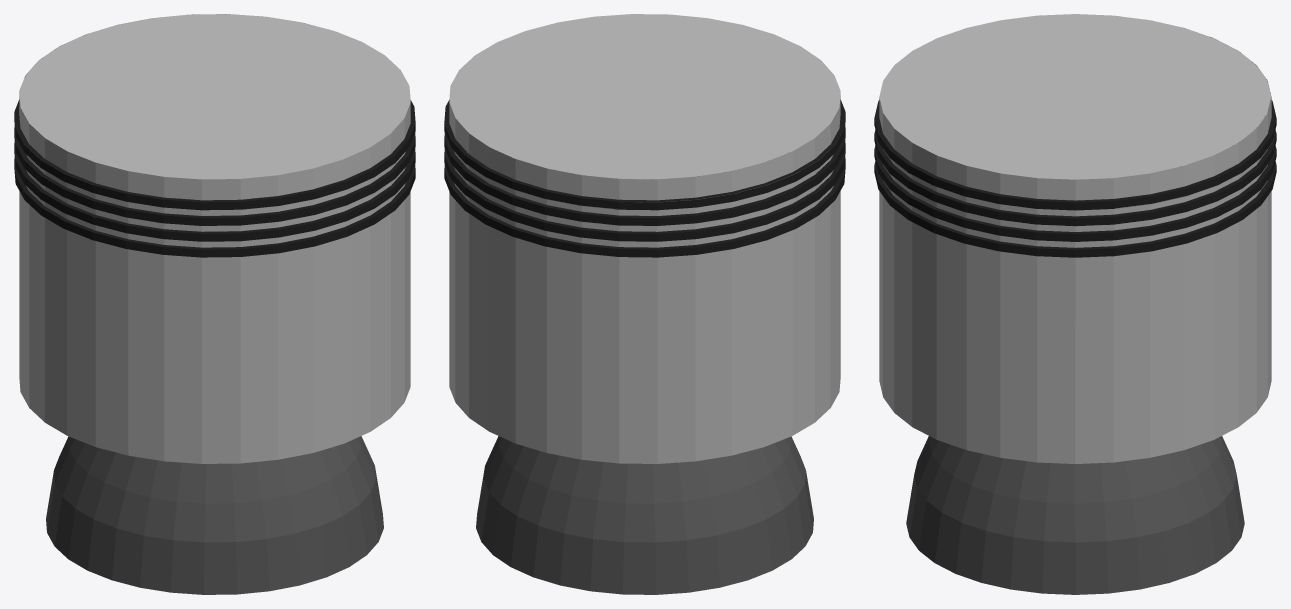
The model's file is 125solidsmall.fbx.
The picture shows the model from 3 angles, left to right: view 1: azimuth 30°, elevation 25°; view 2: azimuth 150°, elevation 25°; view 3: azimuth 270°, elevation 25°; orthographic projection.
Visible parts, largest first — view 1: Cylinder; view 2: Cylinder; view 3: Cylinder.
Boxes of the visible parts, <box> form: Cylinder: <box>14,14,415,594</box>; Cylinder: <box>444,14,845,594</box>; Cylinder: <box>874,14,1276,594</box>.
Size of the model in its own units: 128 by 150 by 128.
